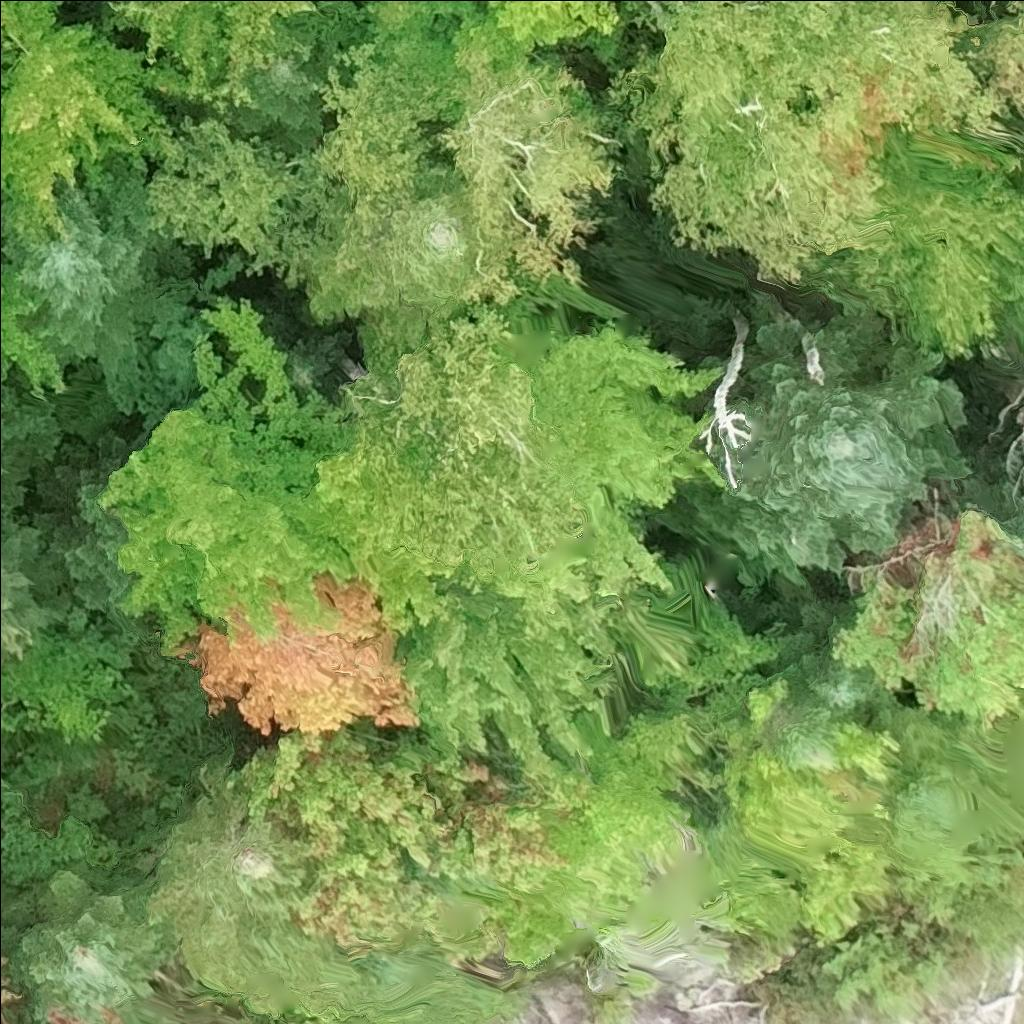crown: (604, 0, 1016, 287), (646, 311, 975, 588), (235, 720, 584, 953), (508, 322, 729, 639), (308, 301, 543, 564), (426, 41, 624, 310), (0, 157, 201, 415), (826, 126, 1023, 358), (398, 583, 624, 781), (113, 483, 354, 662), (0, 18, 190, 245), (831, 509, 1023, 731), (182, 576, 424, 752), (298, 19, 457, 275), (147, 748, 310, 993), (301, 156, 487, 331), (96, 0, 372, 116), (147, 111, 324, 288), (0, 865, 182, 1022), (29, 424, 151, 611), (97, 407, 255, 549), (466, 447, 589, 598), (327, 524, 492, 634), (0, 620, 140, 747), (770, 599, 894, 722), (446, 0, 663, 64), (231, 45, 338, 154), (0, 500, 71, 660), (0, 252, 70, 410), (0, 391, 66, 506), (954, 464, 1023, 538), (288, 325, 349, 408), (362, 0, 483, 38), (0, 0, 62, 53), (998, 262, 1023, 363), (0, 949, 27, 1023), (1013, 170, 1023, 189), (1020, 544, 1023, 554)
